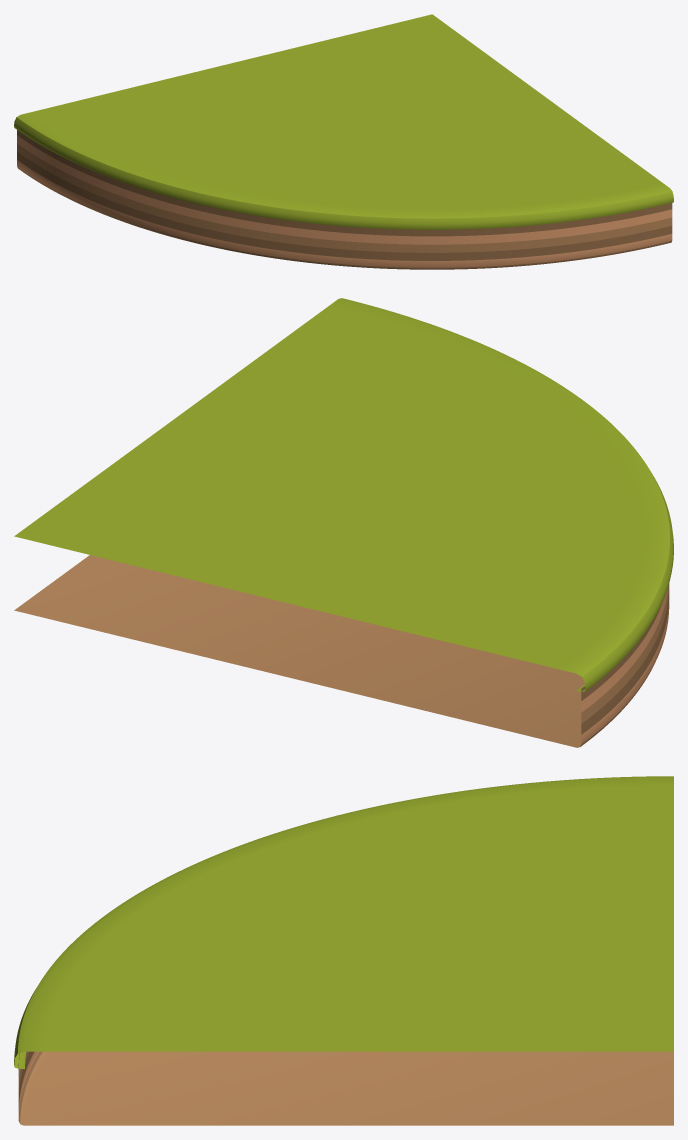
File: platform_grass_corner_round8.gltf
3 views of the same model, one above another, from view 1: azimuth 30°, elevation 25°; view 2: azimuth 150°, elevation 25°; view 3: azimuth 270°, elevation 25° (orthographic). The views are drawn at different scales.
Visible parts, largest first — view 1: Cube_Grass_Corner_Round8; view 2: Cube_Grass_Corner_Round8; view 3: Cube_Grass_Corner_Round8.
Boxes of the visible parts, box(x1,y1,x2,y2) form: Cube_Grass_Corner_Round8: box(14, 14, 673, 269); Cube_Grass_Corner_Round8: box(14, 298, 673, 747); Cube_Grass_Corner_Round8: box(14, 776, 673, 1125).
Size of the model in its own units: 16.12 by 2 by 16.12.
